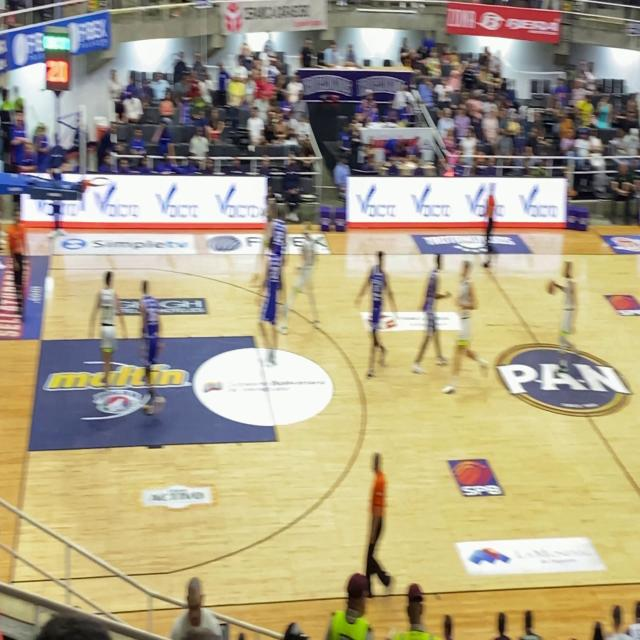Ball: (544, 280, 557, 299)
referee: (357, 437, 400, 602), (2, 202, 33, 336), (478, 181, 502, 274)
team1: (547, 249, 584, 393), (90, 265, 130, 397), (453, 260, 487, 394), (293, 220, 322, 332)
team2: (359, 248, 401, 397), (419, 243, 449, 399), (134, 274, 164, 408), (263, 249, 285, 357), (271, 202, 292, 266)
